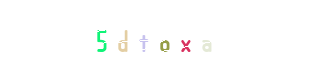5: (61, 0, 141, 80)
A: (145, 0, 225, 80)
D: (99, 0, 179, 80)
O: (120, 0, 200, 80)
T: (120, 0, 200, 80)
X: (124, 0, 204, 80)
